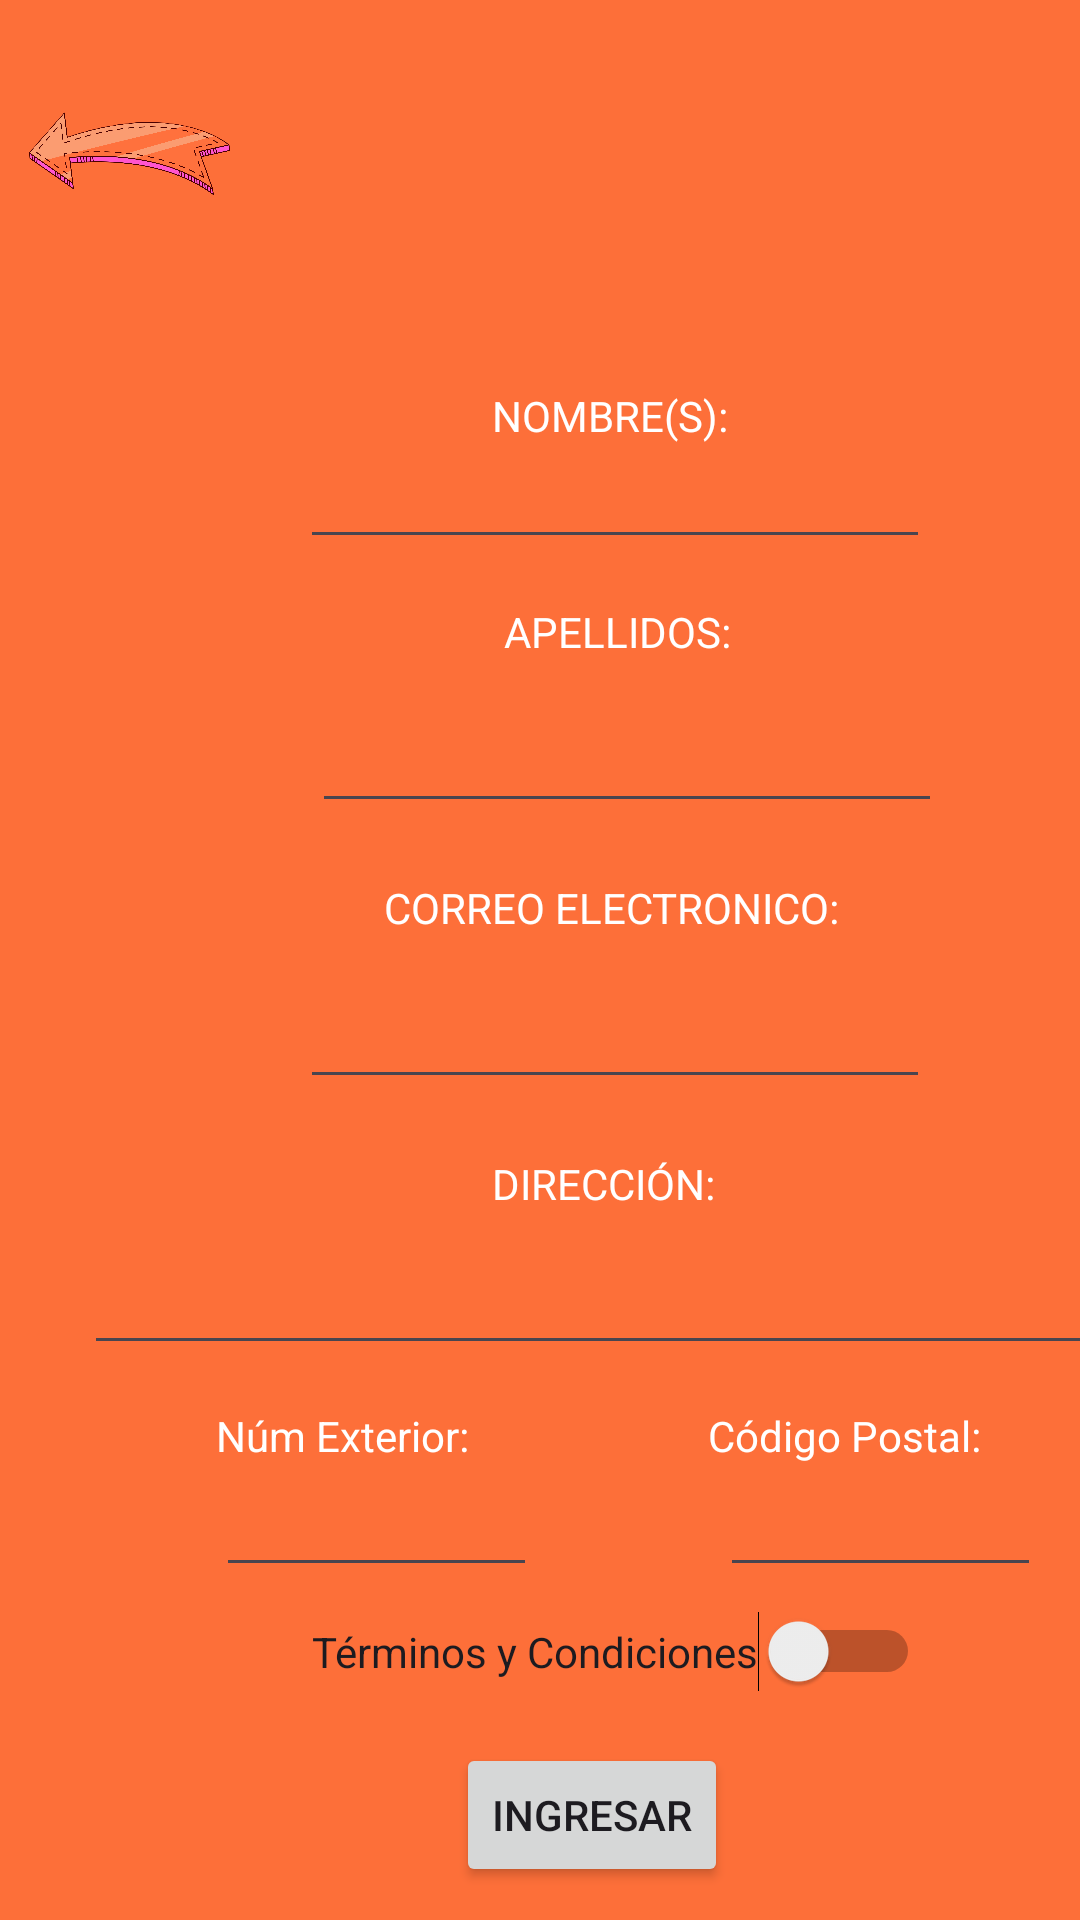

Screen size 1080px x 1920px. Icon name, then its box in pixels as (x1, y1, x2, y2):
flecha: (29, 113, 230, 195)
